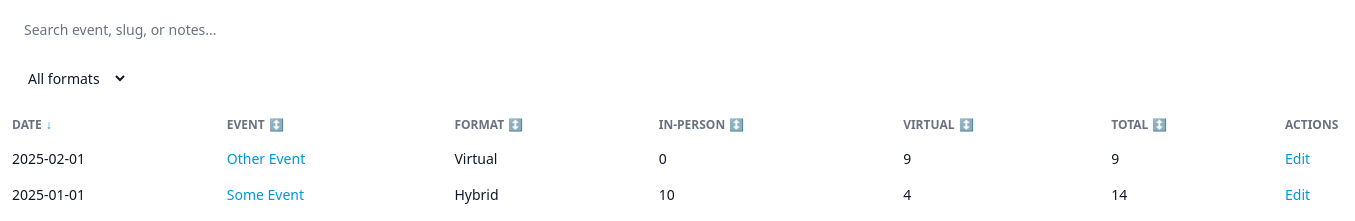
Test: AttendanceTable › filters records by format
Select "Virtual" in the dropdown named "Filter by format". click: (70, 78)
box: [12,60,128,97]
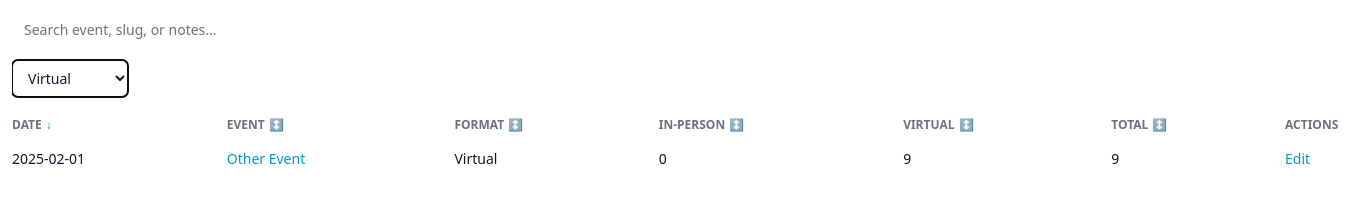
Expected: the link "Other Event" is shown, [227,149,305,168]
Expected: the link "Some Event" is gone
